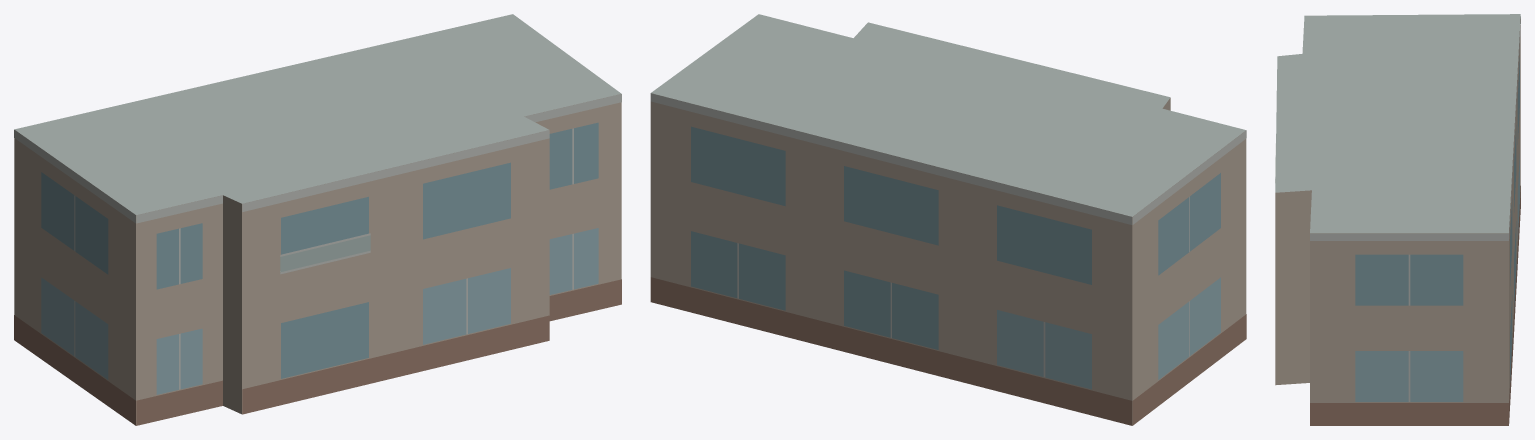
The model's file is survey-upis-32644870.glb.
3 renders of one model, left to right at view 1: azimuth 30°, elevation 25°; view 2: azimuth 150°, elevation 25°; view 3: azimuth 270°, elevation 25°, orthographic. The views are drawn at different scales.
Visible parts, largest first — view 1: survey-upis-32644870.tmp; view 2: survey-upis-32644870.tmp; view 3: survey-upis-32644870.tmp.
Part boxes in pixels (x1,y1,x2,y2): survey-upis-32644870.tmp: (14, 14, 621, 425); survey-upis-32644870.tmp: (650, 14, 1246, 425); survey-upis-32644870.tmp: (1275, 14, 1520, 425).
Bounding box in the file's own units: 14.93 × 6.1 × 7.07.
